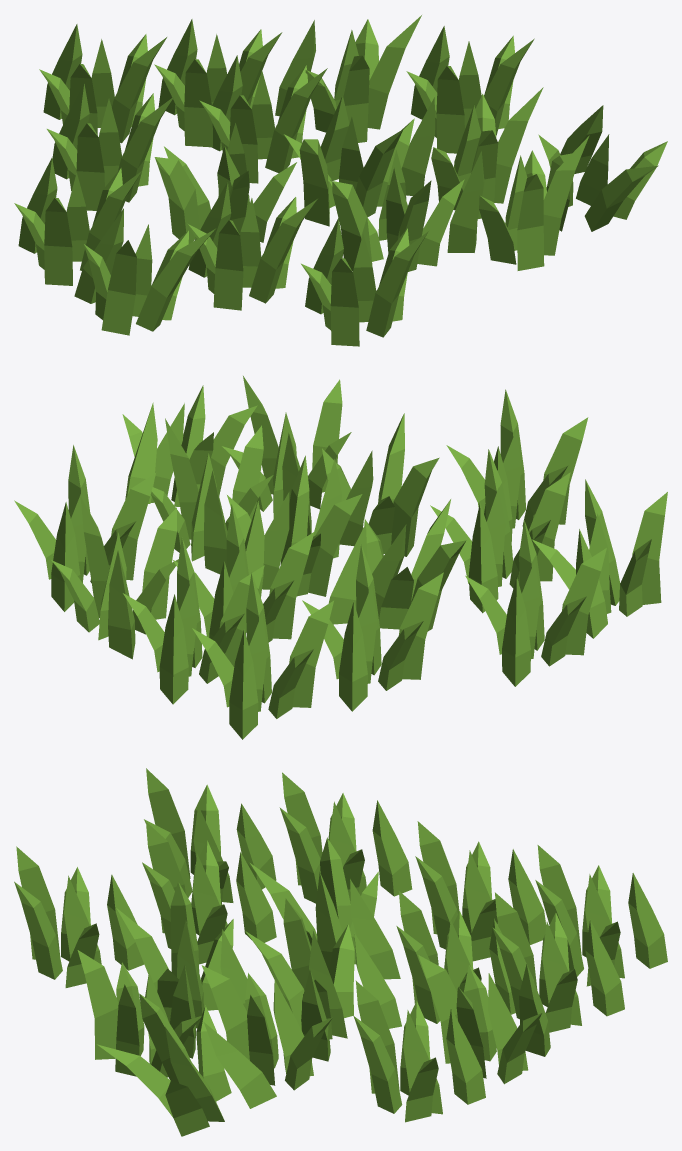
File: Grass1.fbx
3 renders of one model, top to bottom at view 1: azimuth 30°, elevation 25°; view 2: azimuth 150°, elevation 25°; view 3: azimuth 270°, elevation 25°, orthographic. The views are drawn at different scales.
Parts seen in each view (by area): view 1: GrassNo.1; view 2: GrassNo.1; view 3: GrassNo.1.
Part boxes in pixels (left/top/right/bottom): GrassNo.1: left=14, top=15, right=667, bottom=346; GrassNo.1: left=14, top=376, right=667, bottom=739; GrassNo.1: left=14, top=768, right=667, bottom=1136.
Size of the model in its own units: 346 by 71.05 by 348.
